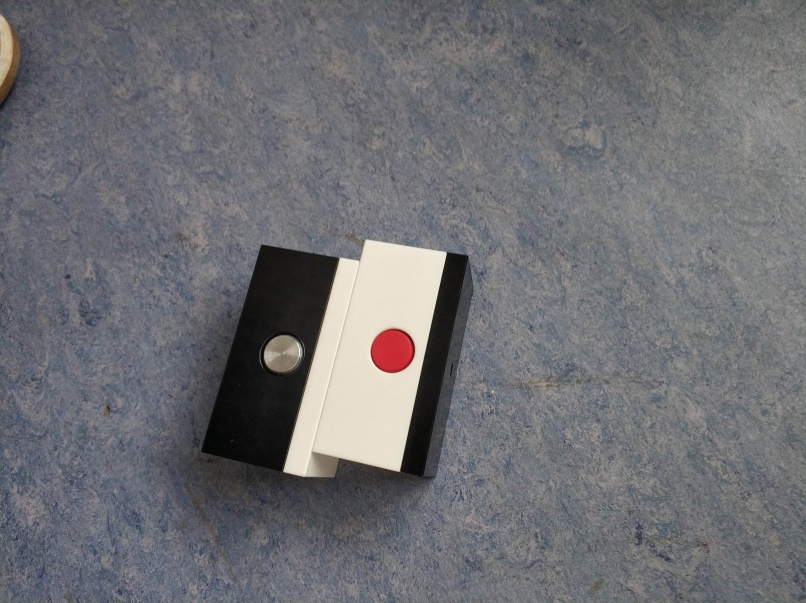black+white+red: (312, 236, 477, 484)
white+black+silver: (198, 241, 363, 480)
